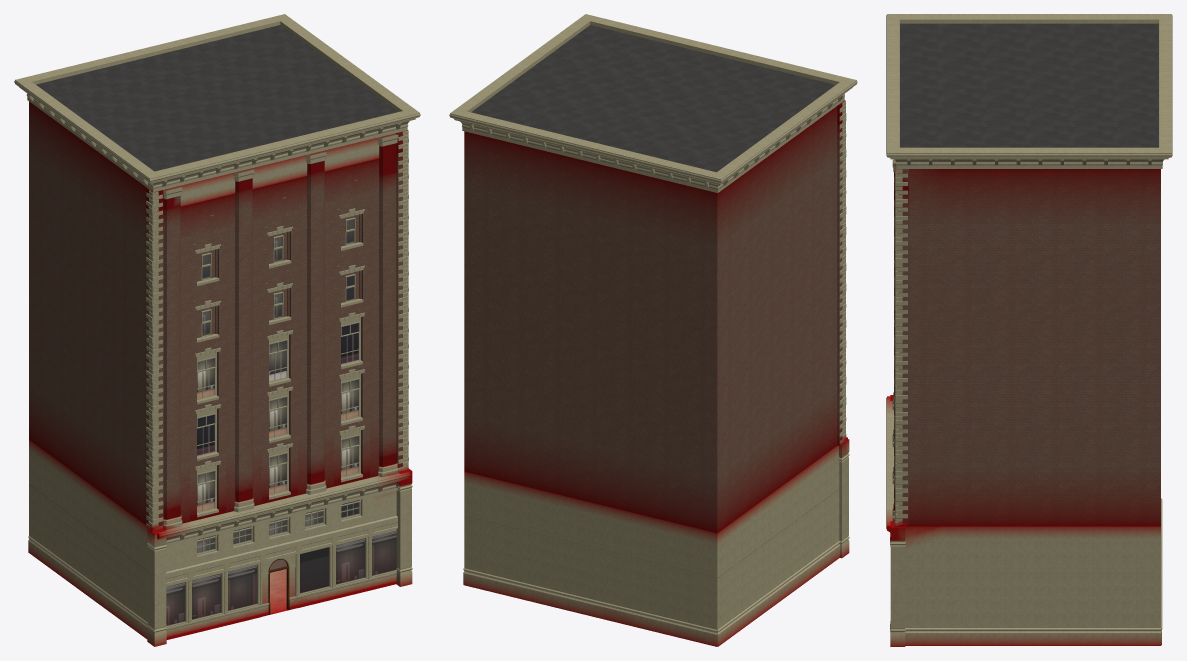
Rendered from Building_Medium_2_001.gltf.
3 views of the same model, side by side, from view 1: azimuth 30°, elevation 25°; view 2: azimuth 150°, elevation 25°; view 3: azimuth 270°, elevation 25° (orthographic). The views are drawn at different scales.
Visible parts, largest first — view 1: Building_Medium_2.001; view 2: Building_Medium_2.001; view 3: Building_Medium_2.001.
Part boxes in pixels (x1,y1,x2,y2): Building_Medium_2.001: (14, 14, 420, 646); Building_Medium_2.001: (449, 14, 857, 646); Building_Medium_2.001: (886, 14, 1172, 646).
Bounding box in the file's own units: 15.06 × 25.01 × 13.06.
Materials: 12 (11 with a texture image).
